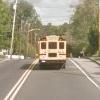Bus: (29, 31, 69, 69)
